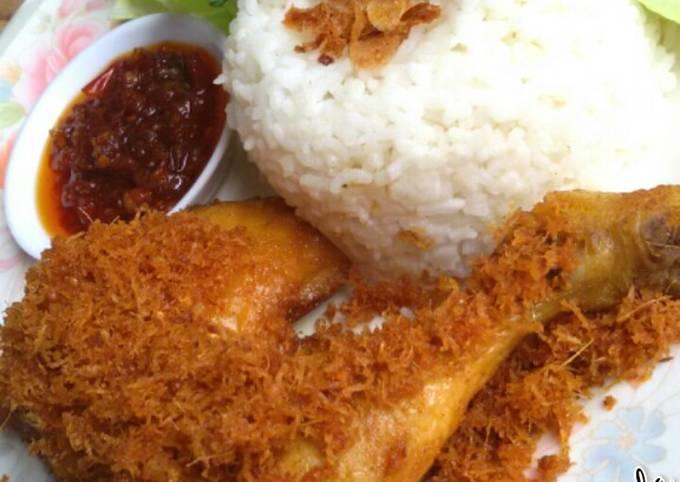buah_sayur_vitA: (87, 75, 186, 186)
daging: (52, 249, 278, 477)
makanan_berpati: (329, 73, 594, 184)
